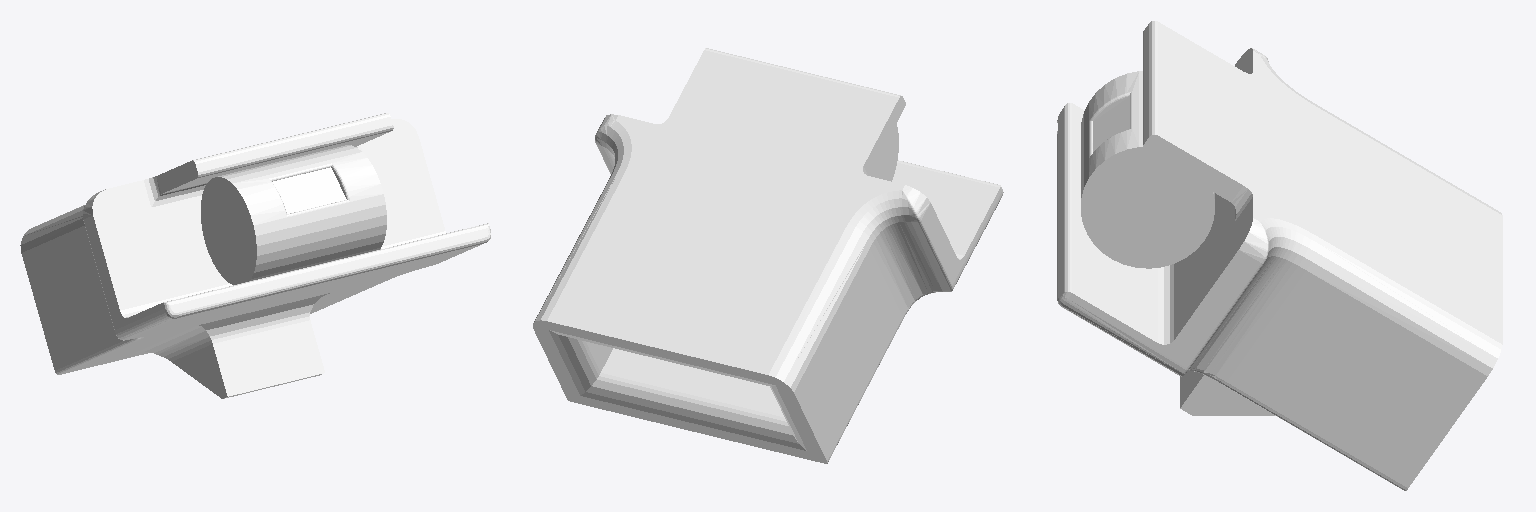
URDF robot description (Center_hub_1^Assembly):
<robot
  name="Center_hub_1^Assembly">
  <link
    name="base_link">
    <inertial>
      <origin
        xyz="0.00441398623550876 -0.0353477296410467 0.168539079236398"
        rpy="0 0 0" />
      <mass
        value="22.6480550210592" />
      <inertia
        ixx="0.124034099087847"
        ixy="0.000197498922096084"
        ixz="-0.000144591725563151"
        iyy="0.0432827374753758"
        iyz="0.0591195558730604"
        izz="0.080752327678928" />
    </inertial>
    <visual>
      <origin
        xyz="0 0 0"
        rpy="0 0 0" />
      <geometry>
        <mesh
          filename="package://Center_hub_1^Assembly/meshes/base_link.STL" />
      </geometry>
      <material
        name="">
        <color
          rgba="1 1 1 1" />
      </material>
    </visual>
    <collision>
      <origin
        xyz="0 0 0"
        rpy="0 0 0" />
      <geometry>
        <mesh
          filename="package://Center_hub_1^Assembly/meshes/base_link.STL" />
      </geometry>
    </collision>
  </link>
</robot>

--- What the picture shows (computed from the rendered views, not written in the file) ---
3 views of the same robot in one strip: view 1: azimuth 30°, elevation 25°; view 2: azimuth 150°, elevation 25°; view 3: azimuth 270°, elevation 25° (orthographic).
Model Center_hub_1^Assembly with 1 links and 0 joints (none), rooted at base_link, posed every joint at zero.
Visible links, largest first — view 1: base_link; view 2: base_link; view 3: base_link.
Link boxes in pixels (x1,y1,x2,y2): base_link: [20, 113, 490, 398]; base_link: [533, 48, 1003, 463]; base_link: [1057, 21, 1502, 490].
Bounding box of the posed robot: 0.381 × 0.3773 × 0.3175 m (x, y, z).
1 mesh visuals loaded from 1 distinct referenced files (1 binary STL).